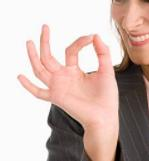left: (14, 22, 120, 121)
